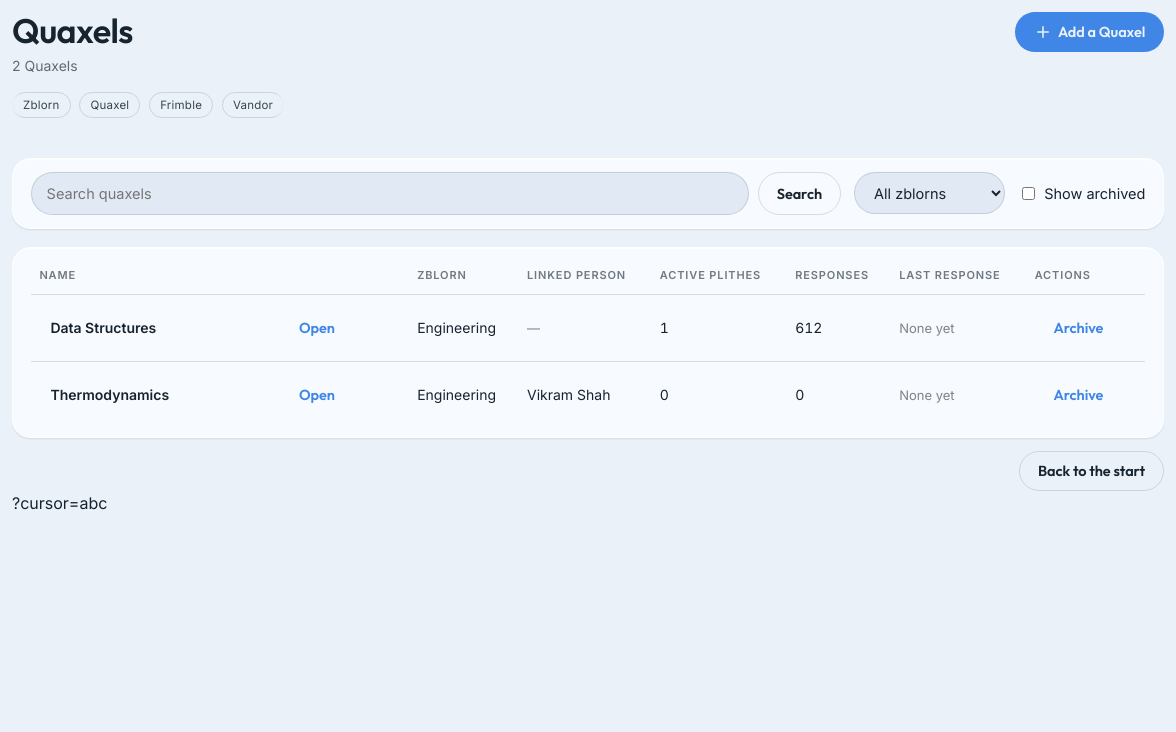
Test: filters live in the URL › puts a search there, and paging starts again
This screenshot has width=1176, height=732.
Step 1. Type "thermo" into the field labelled "Search quaxels" → [390, 194], box x1=31 y1=172 x2=749 y2=215
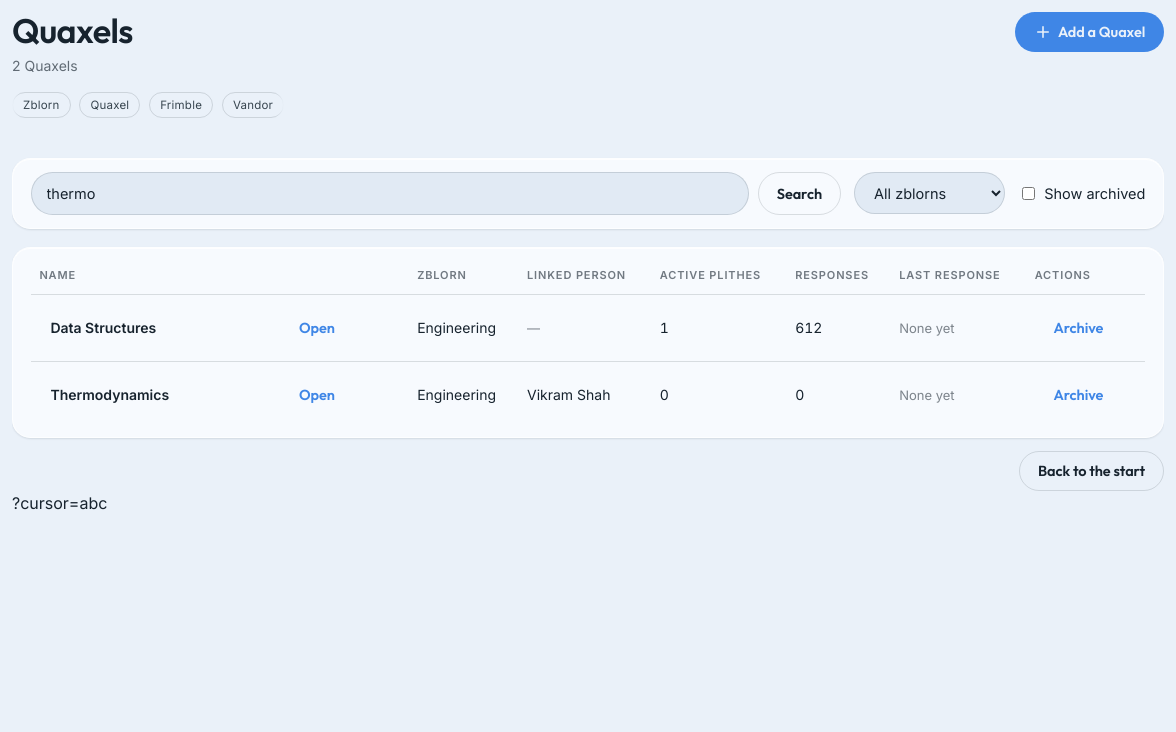
Step 2. Click the button "Search" → [799, 194], box x1=758 y1=172 x2=841 y2=215
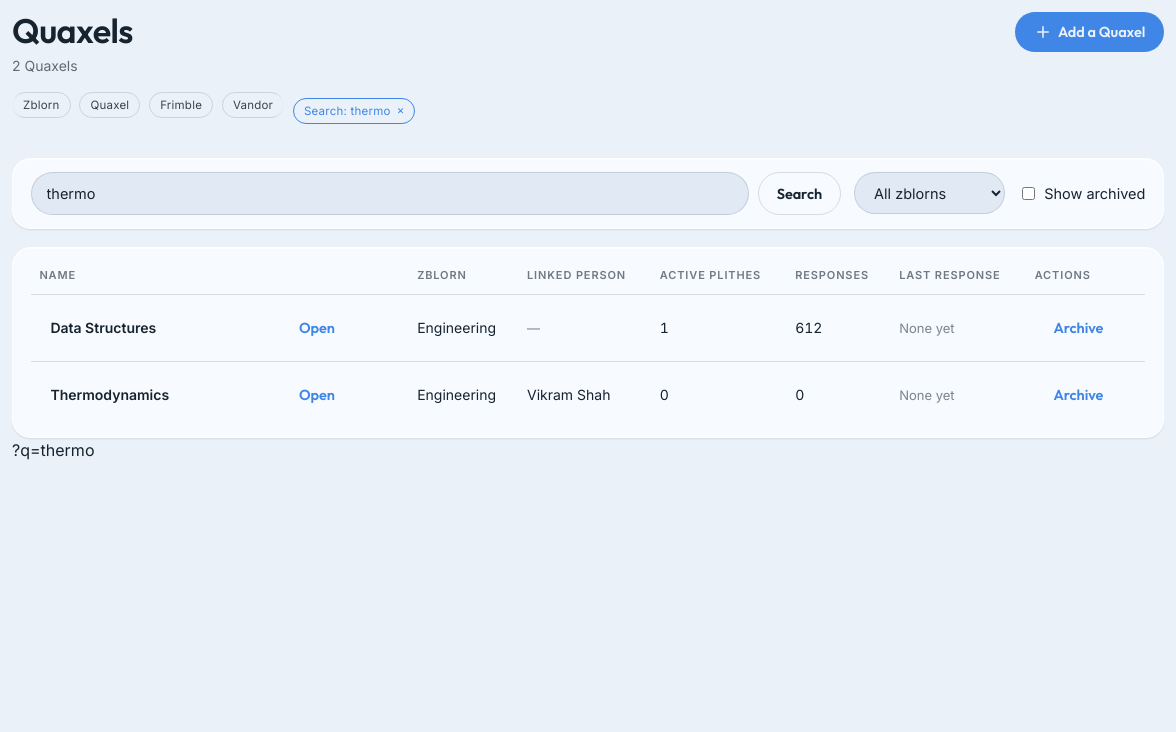
Result: the text with test id "where" shows "q=thermo" at x1=12 y1=440 x2=94 y2=460
Result: the text with test id "where" no longer shows "cursor"
